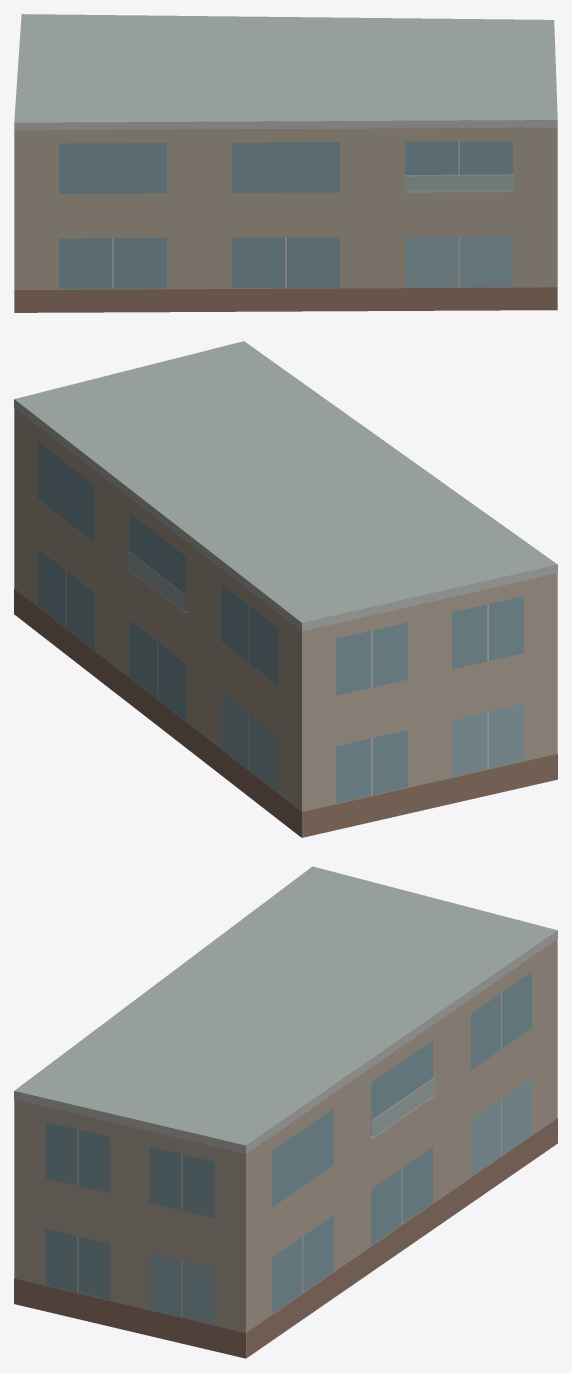
The model's file is survey-upis-32890416.glb.
3 renders of one model, top to bottom at view 1: azimuth 30°, elevation 25°; view 2: azimuth 150°, elevation 25°; view 3: azimuth 270°, elevation 25°, orthographic. The views are drawn at different scales.
Visible parts, largest first — view 1: survey-upis-32890416.tmp; view 2: survey-upis-32890416.tmp; view 3: survey-upis-32890416.tmp.
Part boxes in pixels (left/top/right/bottom): survey-upis-32890416.tmp: left=14, top=14, right=557, bottom=312; survey-upis-32890416.tmp: left=14, top=341, right=557, bottom=837; survey-upis-32890416.tmp: left=14, top=866, right=557, bottom=1358.
Bounding box in the file's own units: 17.15 × 6.1 × 14.11.
